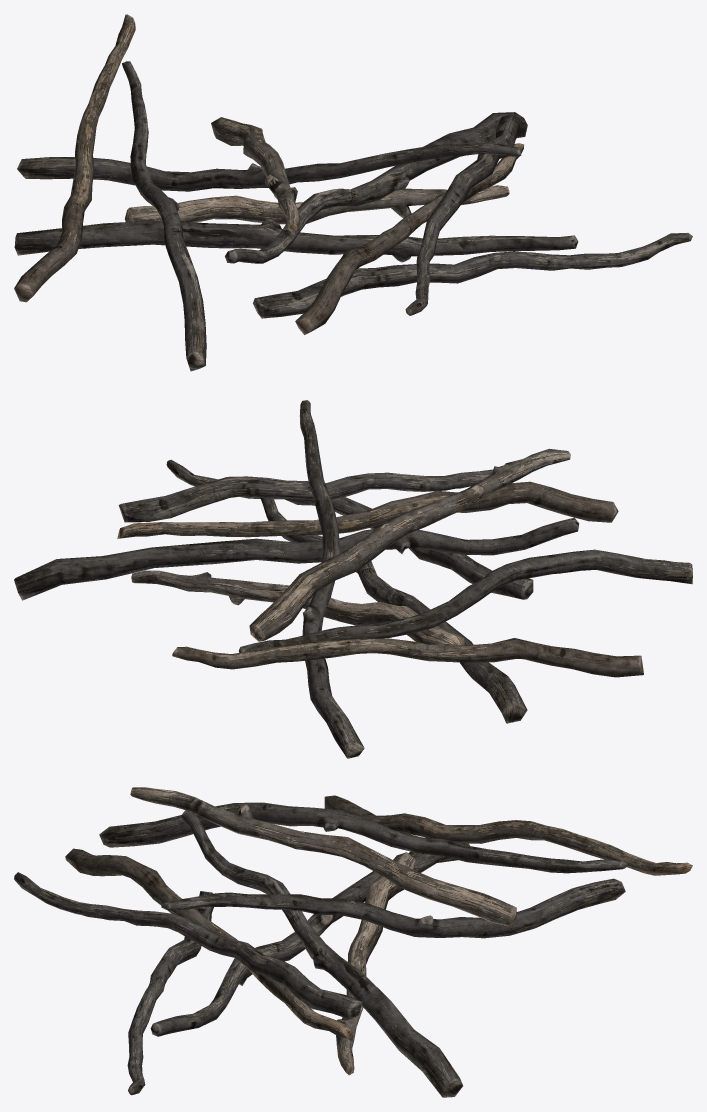
The model's file is SM_Twigs_Debris_B.fbx.
3 views of the same model, one above another, from view 1: azimuth 30°, elevation 25°; view 2: azimuth 150°, elevation 25°; view 3: azimuth 270°, elevation 25° (orthographic).
Visible parts, largest first — view 1: SM_Twigs_Debris_B_LOD0; view 2: SM_Twigs_Debris_B_LOD0; view 3: SM_Twigs_Debris_B_LOD0.
Part boxes in pixels (left/top/right/bottom): SM_Twigs_Debris_B_LOD0: left=14, top=14, right=692, bottom=371; SM_Twigs_Debris_B_LOD0: left=14, top=400, right=692, bottom=758; SM_Twigs_Debris_B_LOD0: left=14, top=787, right=692, bottom=1097.
Bounding box in the file's own units: 160 × 164 × 36.16.
1 material, 1 textured.
